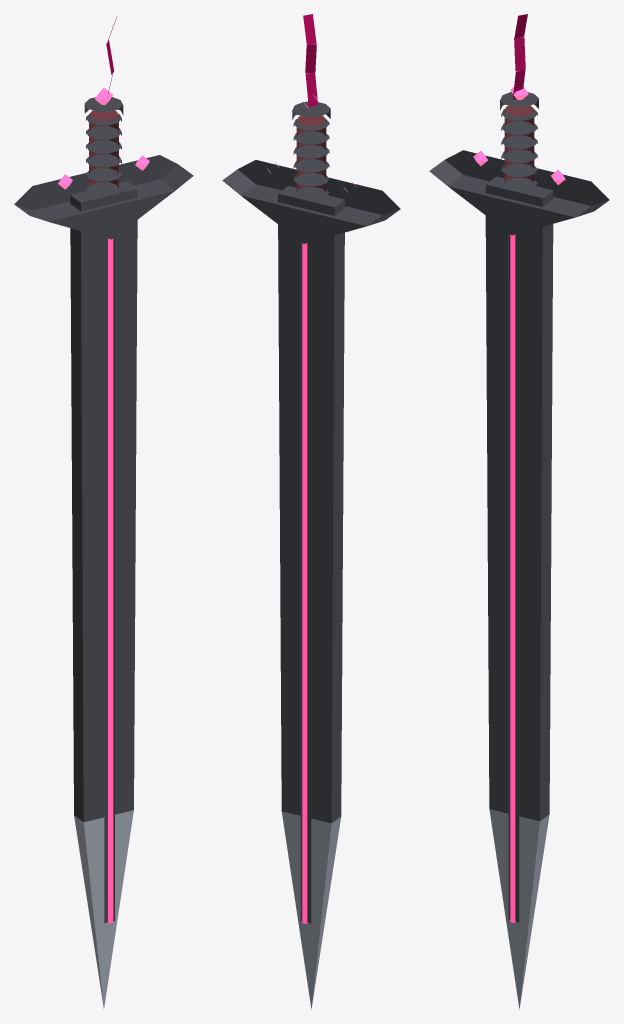
File: crimson_blade.glb
3 views of the same model, side by side, from view 1: azimuth 30°, elevation 25°; view 2: azimuth 150°, elevation 25°; view 3: azimuth 330°, elevation 25° (orthographic).
Visible parts, largest first — view 1: DarkMetal, EdgeMetal, ScarletChannel, GripLeather, CrimsonCrystal; view 2: DarkMetal, EdgeMetal, ScarletChannel, ClothOrnament, GripLeather; view 3: DarkMetal, EdgeMetal, ScarletChannel, GripLeather, ClothOrnament.
Boxes of the visible parts, x1=… form: DarkMetal: x1=14, y1=97, x2=193, y2=923; EdgeMetal: x1=74, y1=810, x2=133, y2=1008; ScarletChannel: x1=108, y1=238, x2=113, y2=923; GripLeather: x1=89, y1=110, x2=118, y2=188; CrimsonCrystal: x1=58, y1=88, x2=149, y2=189; DarkMetal: x1=222, y1=101, x2=400, y2=923; EdgeMetal: x1=281, y1=811, x2=340, y2=1009; ScarletChannel: x1=302, y1=243, x2=307, y2=923; ClothOrnament: x1=303, y1=14, x2=317, y2=106; GripLeather: x1=296, y1=115, x2=326, y2=192; DarkMetal: x1=429, y1=92, x2=609, y2=922; EdgeMetal: x1=489, y1=809, x2=549, y2=1009; ScarletChannel: x1=510, y1=234, x2=515, y2=922; GripLeather: x1=504, y1=105, x2=534, y2=183; ClothOrnament: x1=512, y1=14, x2=527, y2=99.
Size of the model in its own units: 0.196 by 1.13 by 0.038.
